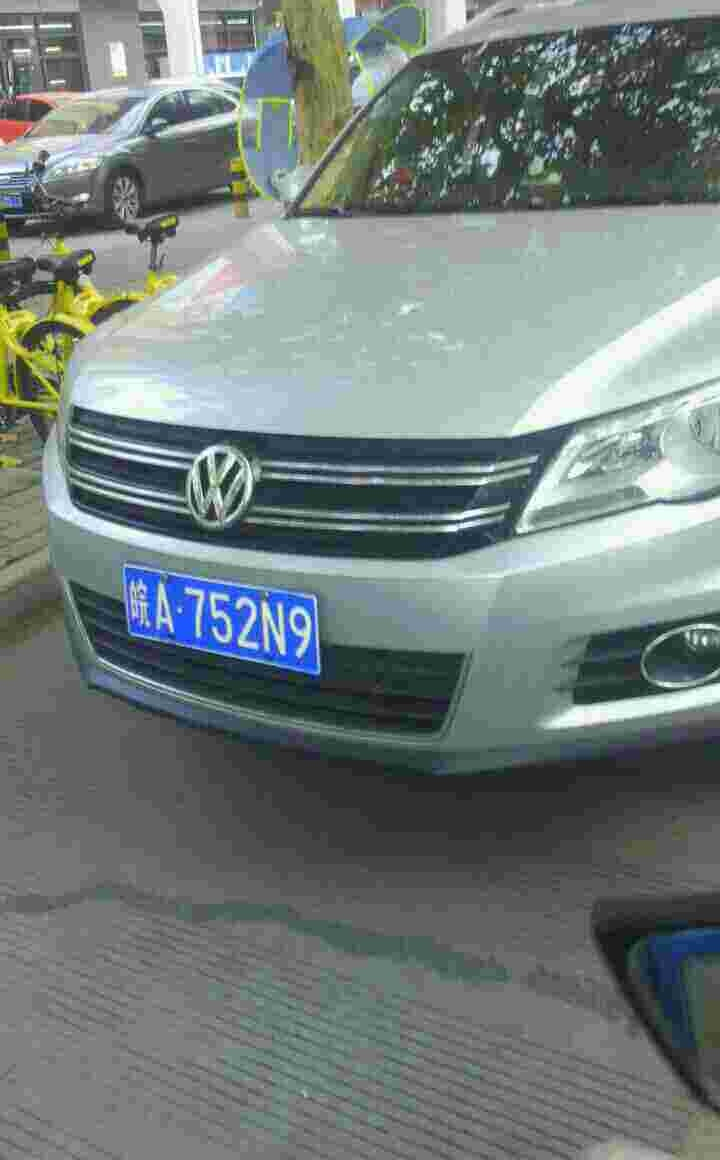license_plate: (122, 568, 333, 681)
